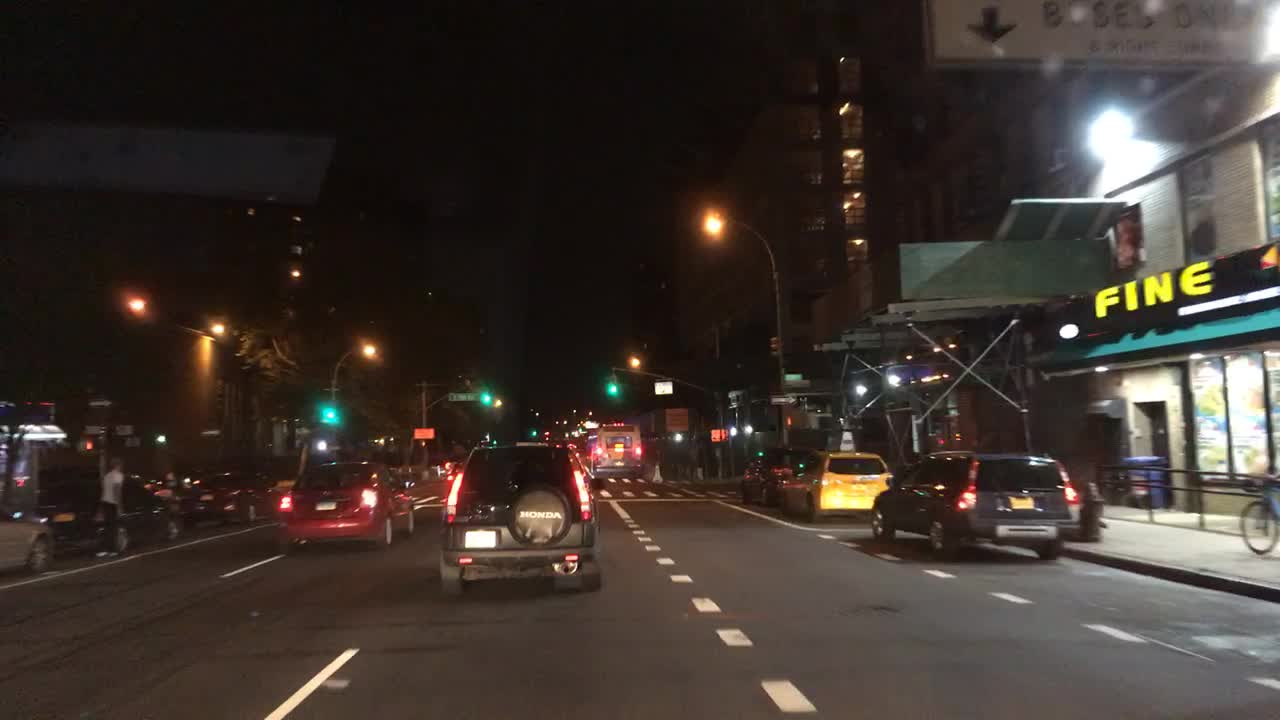bike: (1234, 469, 1278, 557)
bus: (585, 422, 651, 482)
car: (433, 443, 610, 600), (868, 446, 1085, 558), (273, 458, 417, 555), (44, 477, 187, 557), (763, 450, 893, 519), (181, 465, 275, 525), (737, 447, 815, 504), (0, 507, 57, 576), (148, 474, 182, 503), (385, 465, 415, 492), (435, 459, 457, 480), (573, 447, 586, 462)
person: (92, 452, 130, 563)
rider: (1258, 462, 1278, 522)
traffic light: (319, 404, 341, 425), (125, 298, 146, 317), (606, 384, 624, 399), (480, 390, 494, 405), (782, 414, 796, 428), (83, 440, 97, 452), (711, 429, 726, 440), (528, 425, 539, 437)
traffic sign: (664, 407, 687, 431), (446, 390, 480, 402), (651, 381, 676, 396), (85, 396, 117, 407), (113, 423, 136, 435), (768, 396, 798, 405), (411, 428, 434, 438), (781, 372, 801, 383), (82, 425, 101, 435), (124, 437, 140, 447)
